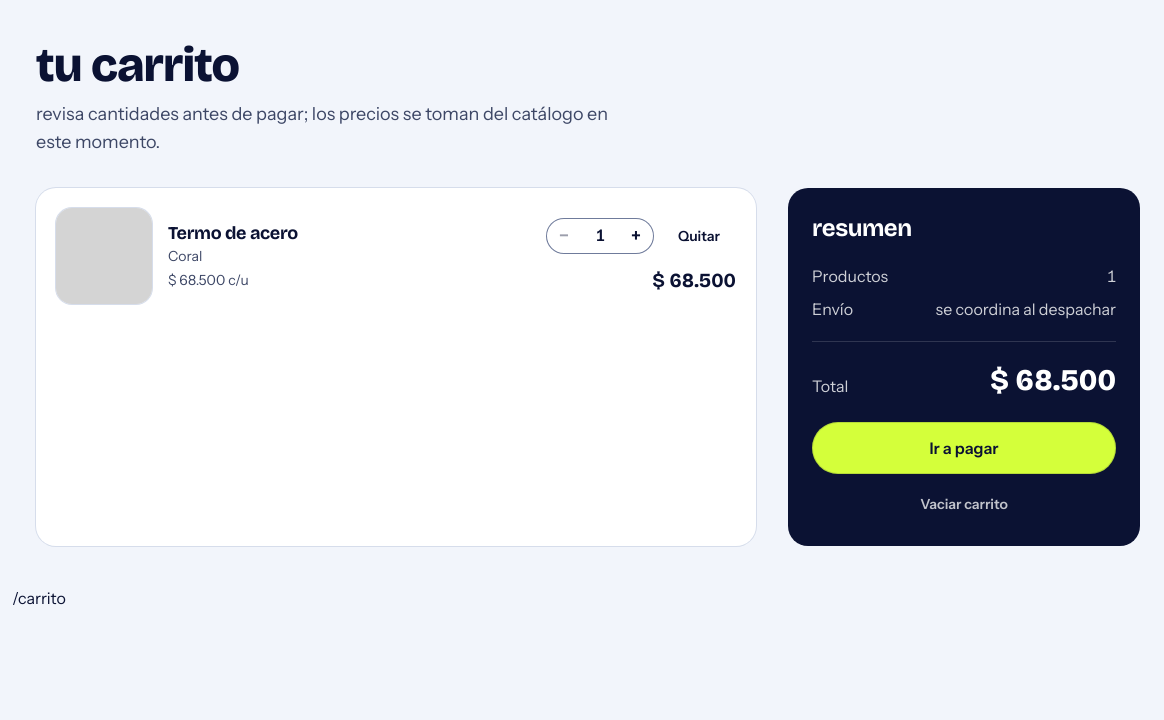
cart flow › prices the cart from the catalogue, changes quantities and removes lines
This screenshot has width=1164, height=720.
Expected: the heading "Termo de acero" is shown, [168, 222, 298, 244]
Click the button named "Sumar uno" at (636, 236), box [620, 220, 652, 252]
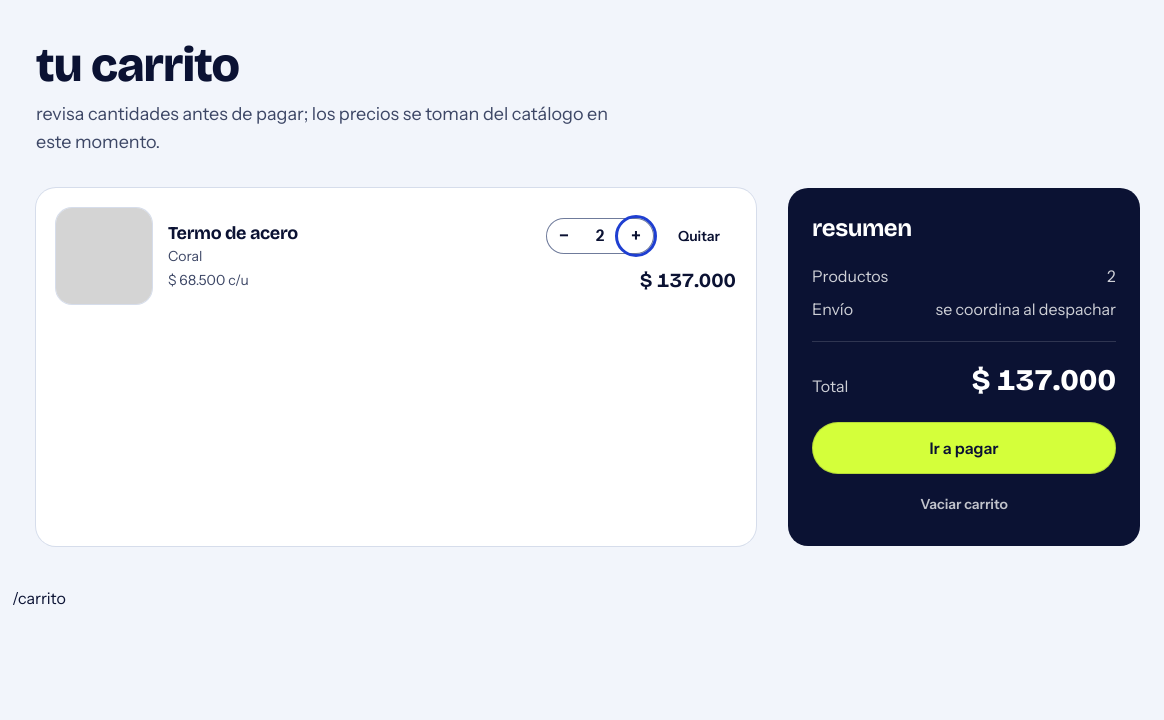
Expected: the element "resumen" shows "$ 137.000", [972, 362, 1116, 398]
Click the button with aria-label "Quitar Termo de acero del carrito" at (699, 236), box [662, 218, 736, 254]
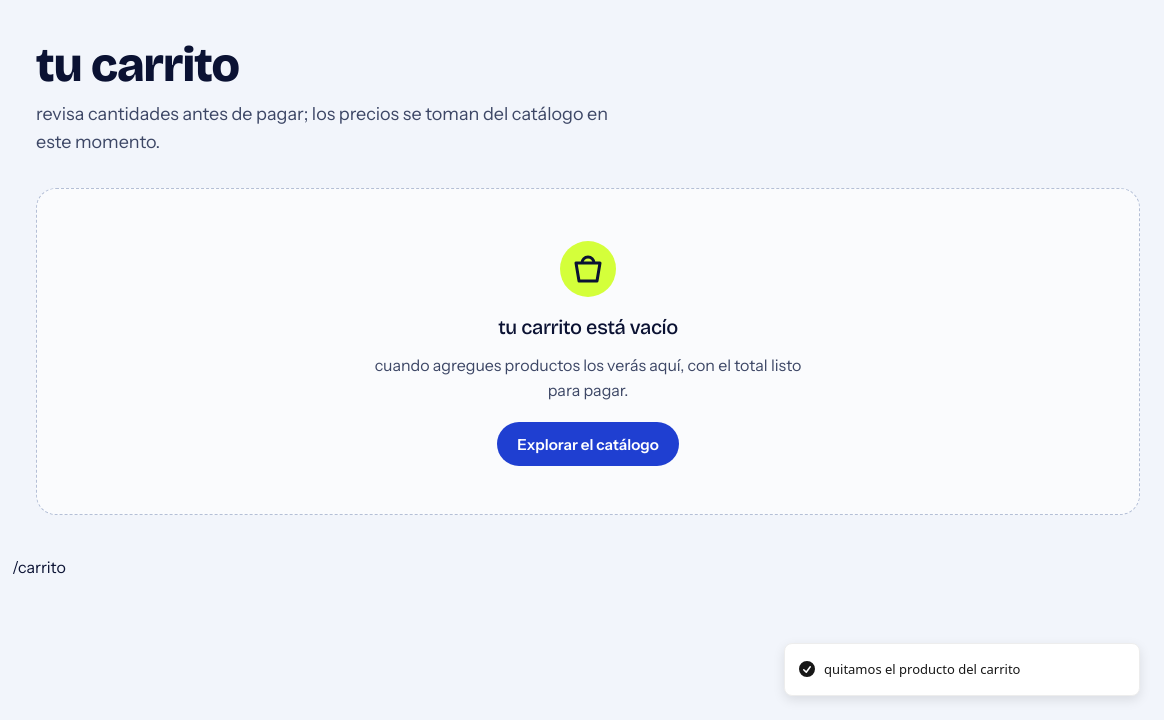
Expected: the heading "tu carrito está vacío" is shown, [498, 313, 678, 341]
